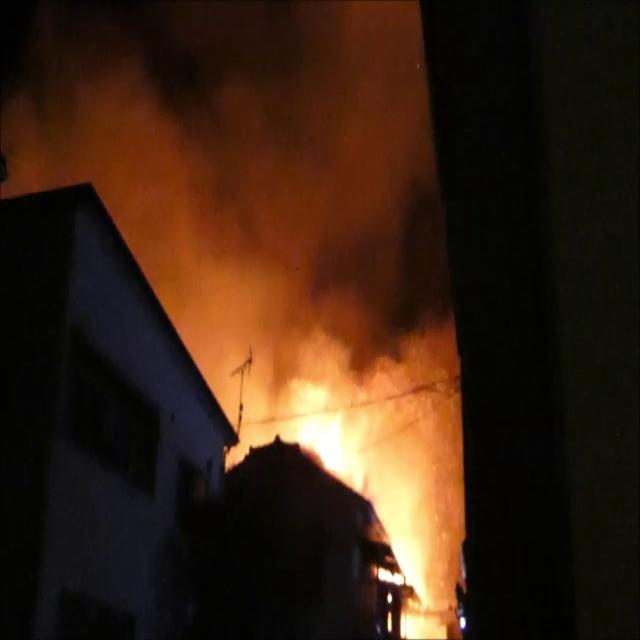Fire: (282, 365, 366, 505)
Smoke: (1, 2, 467, 366)
